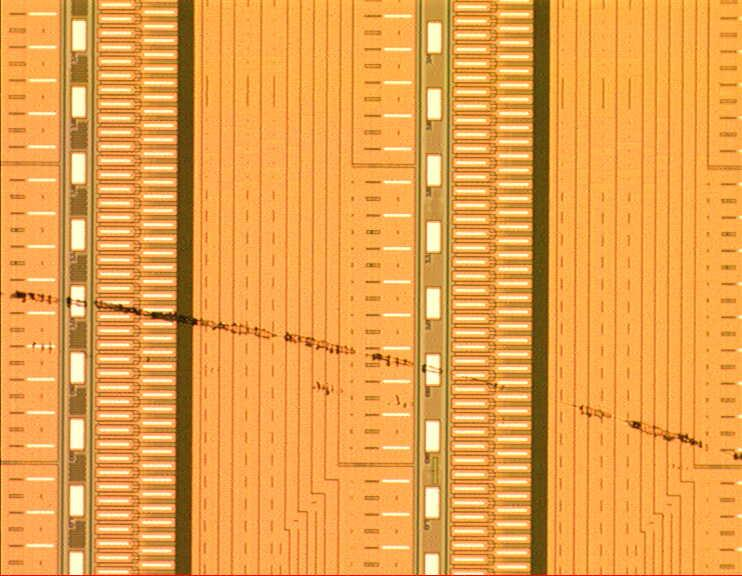SCRATCH: (1, 281, 742, 470)
